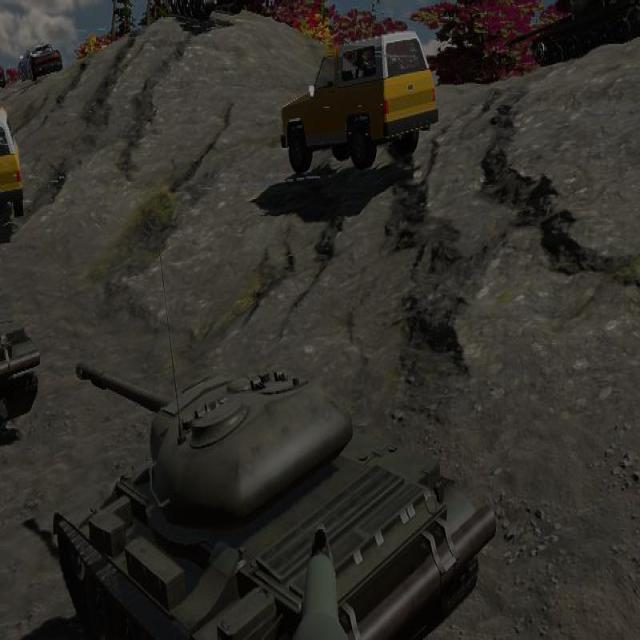Tank: (51, 367, 501, 640), (57, 366, 493, 640), (0, 271, 41, 454), (152, 0, 249, 22)
car: (280, 31, 440, 174), (0, 104, 23, 236)
